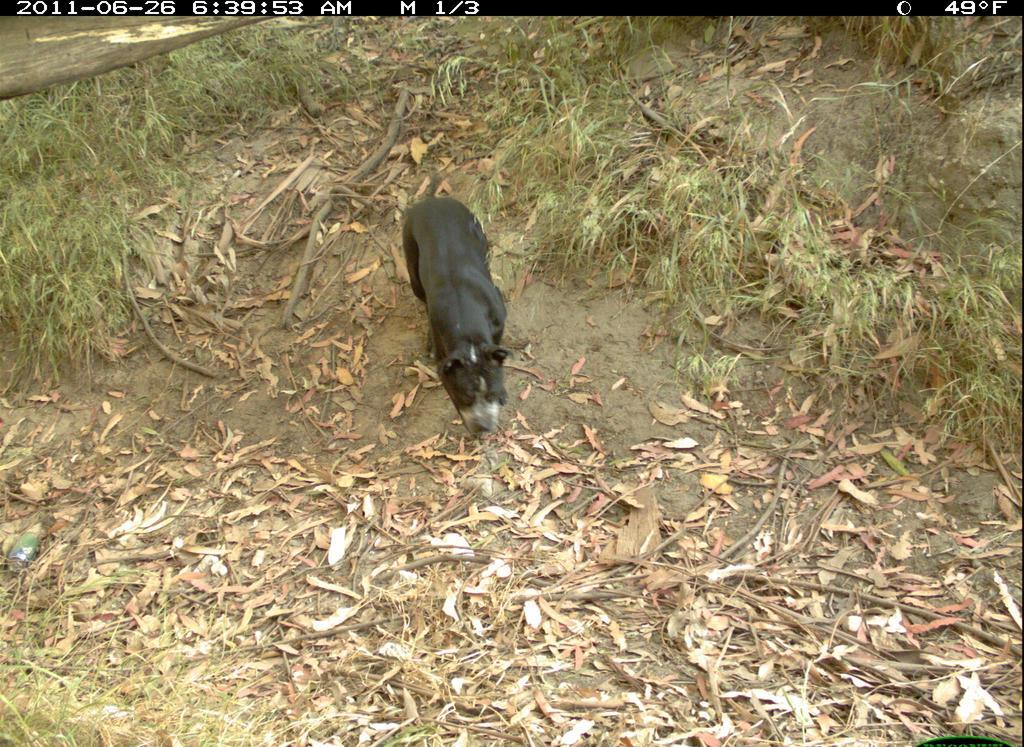dog: (388, 183, 530, 455)
